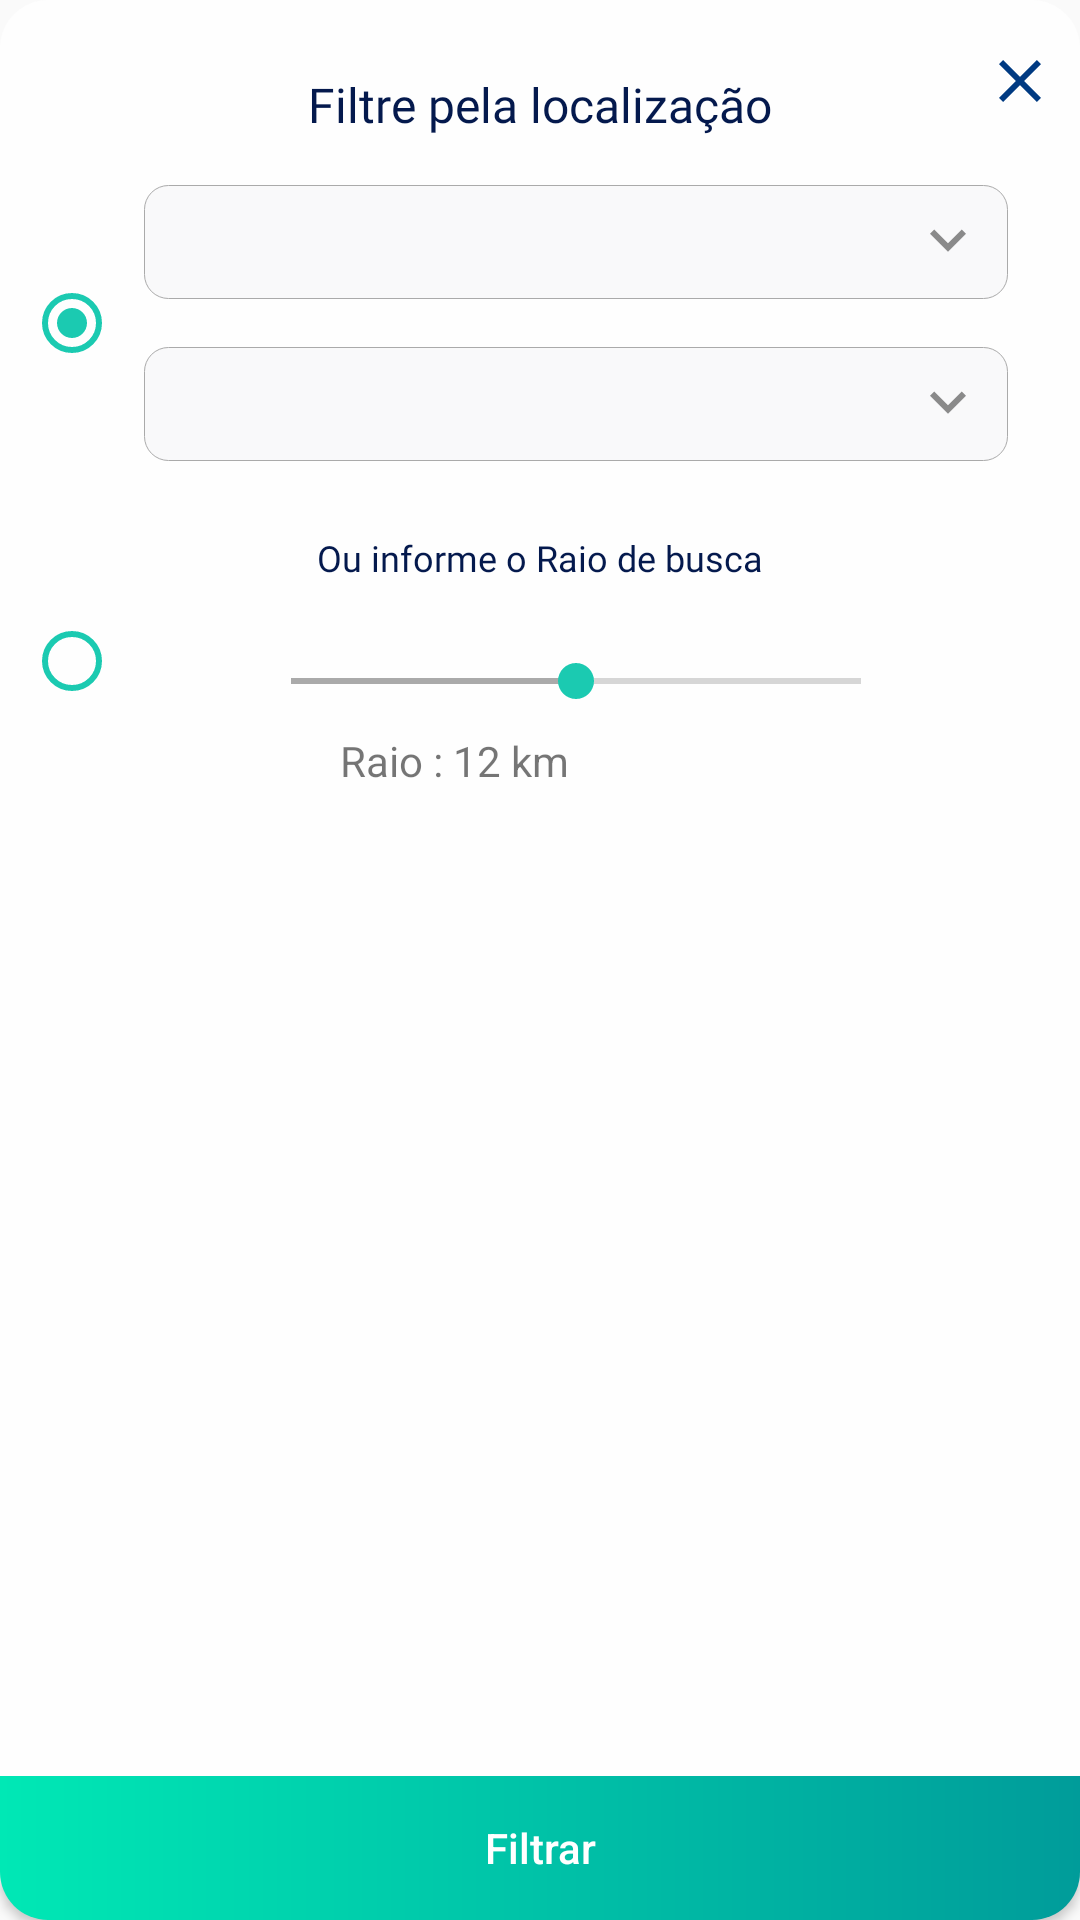

Icon bounding boxes for this 1080px×1920px phone screenshot, format (x1, y1, x2, y2):
close: (999, 60, 1041, 102)
